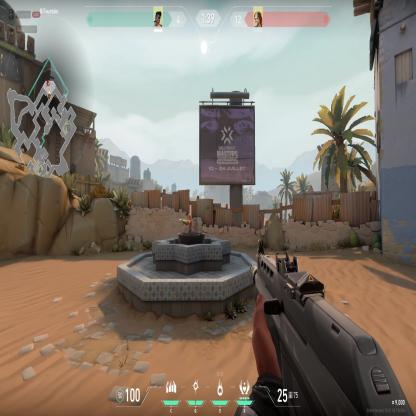enemy: (182, 213, 194, 233)
